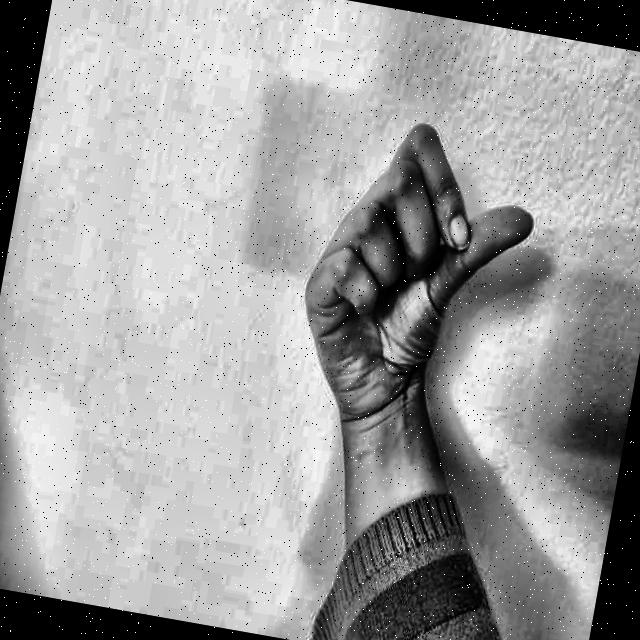Ay: (250, 85, 570, 482)
